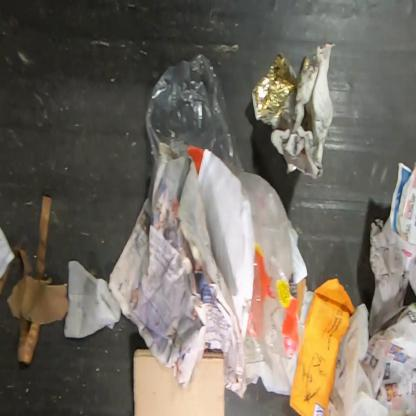cardboard: (133, 349, 226, 415)
soft_plastic: (145, 51, 298, 366)
